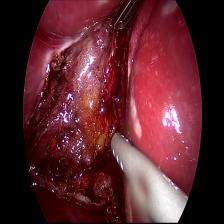Grasper: (110, 1, 146, 36)
Irrigator: (110, 127, 140, 183)
